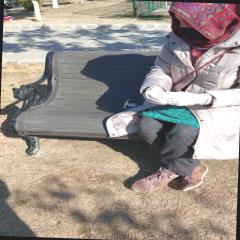gloved: (159, 90, 205, 106), (144, 88, 167, 106)
